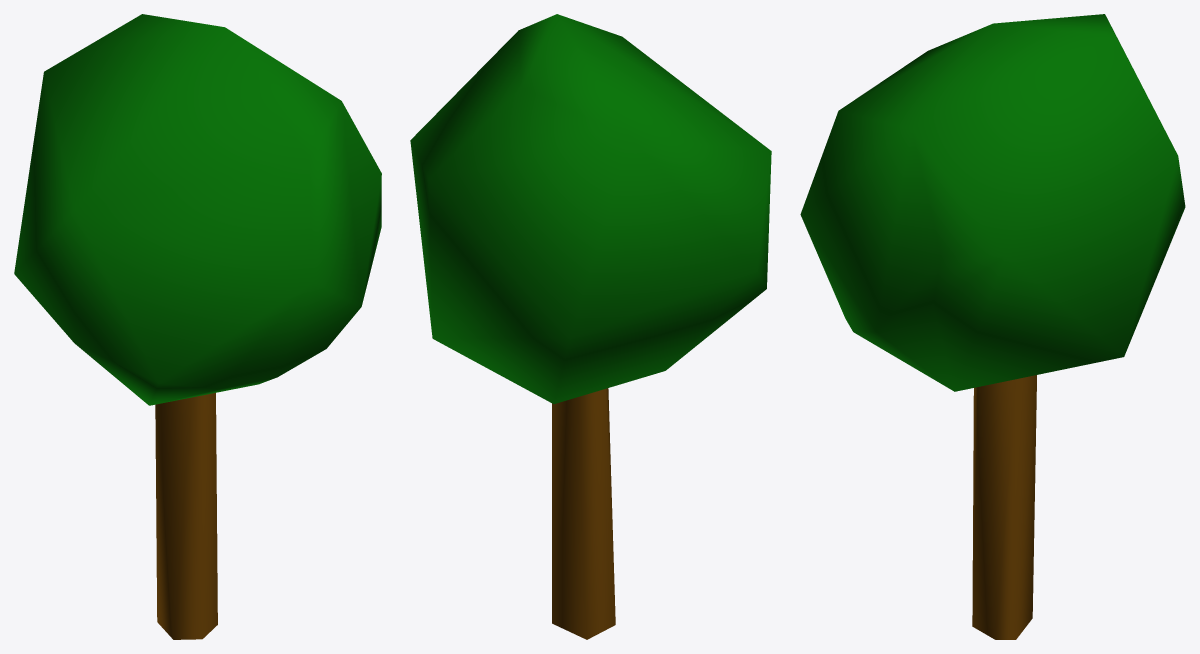
The model's file is Tree_01.fbx.
3 views of the same model, side by side, from view 1: azimuth 30°, elevation 25°; view 2: azimuth 150°, elevation 25°; view 3: azimuth 270°, elevation 25° (orthographic). The views are drawn at different scales.
Parts seen in each view (by area): view 1: Tree; view 2: Tree; view 3: Tree.
Part boxes in pixels (x1=…): Tree: x1=14, y1=14, x2=381, y2=639; Tree: x1=410, y1=14, x2=771, y2=639; Tree: x1=800, y1=14, x2=1185, y2=639.
Bounding box in the file's own units: 49.6 × 82.06 × 46.22.
